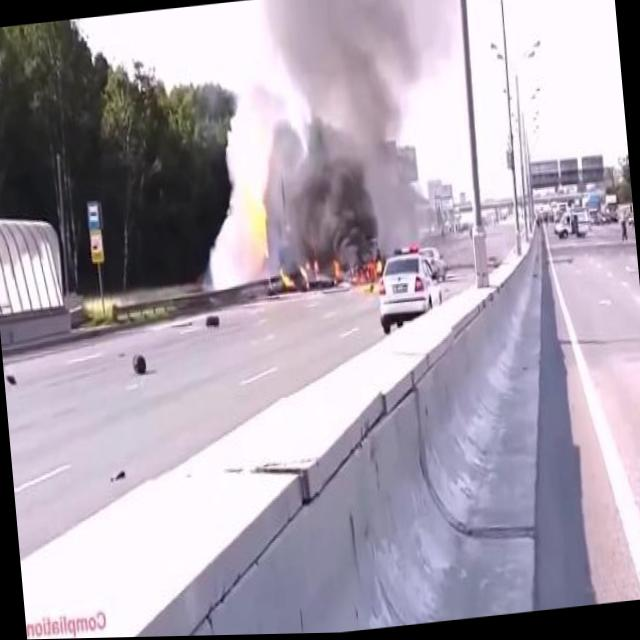fire: (332, 258, 384, 288), (246, 196, 268, 258), (275, 265, 296, 293)
